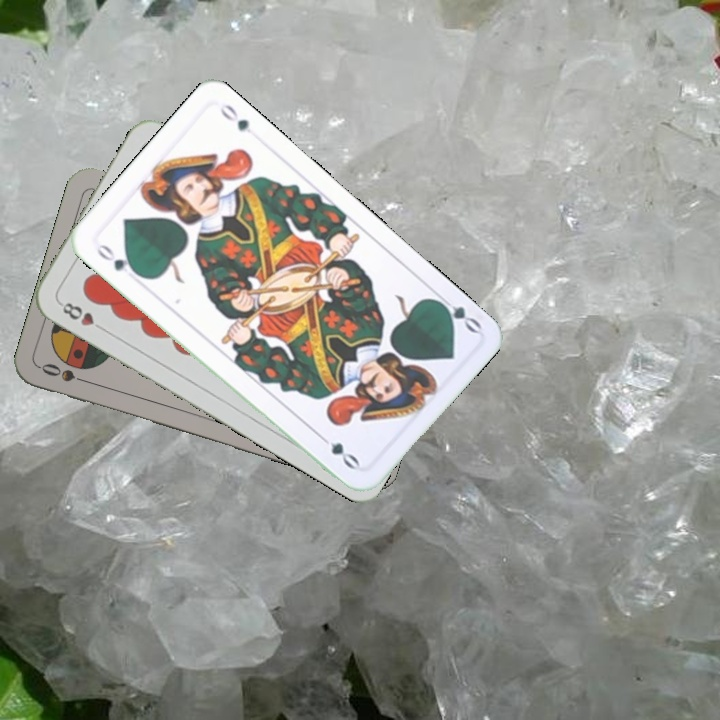GO: (430, 290, 484, 336), (92, 240, 143, 279)
H8: (55, 298, 109, 334)
SO: (37, 359, 94, 387)
